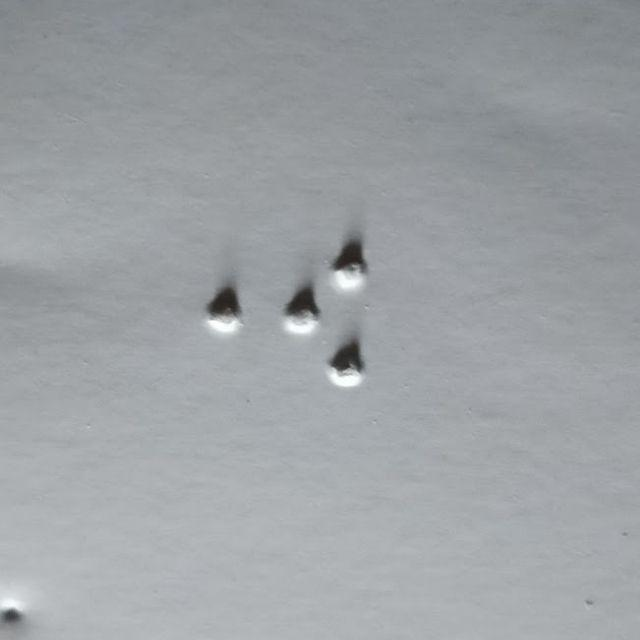dot_5: (160, 255, 242, 389)
wakas: (283, 255, 365, 389)
